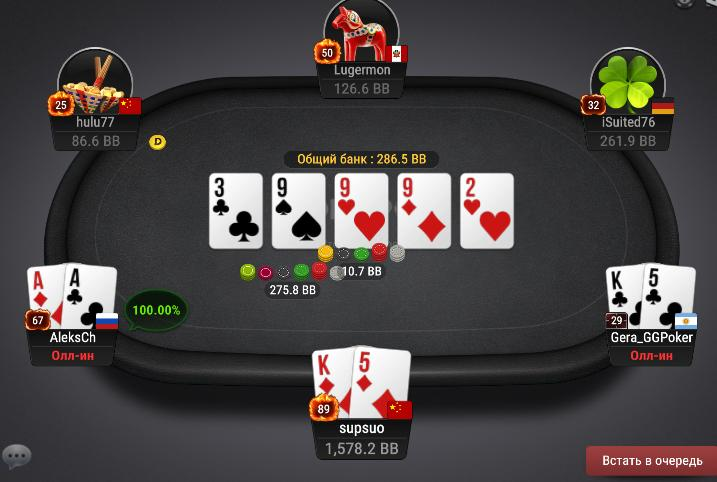2h: (461, 174, 516, 249)
3c: (210, 174, 263, 248)
5c: (644, 262, 698, 333)
5d: (351, 345, 411, 417)
9d: (400, 175, 453, 250)
9h: (335, 174, 389, 247)
9s: (271, 174, 326, 247)
Ac: (63, 261, 117, 329)
Ad: (27, 265, 64, 327)
Kc: (607, 265, 645, 329)
Kd: (311, 349, 354, 418)
